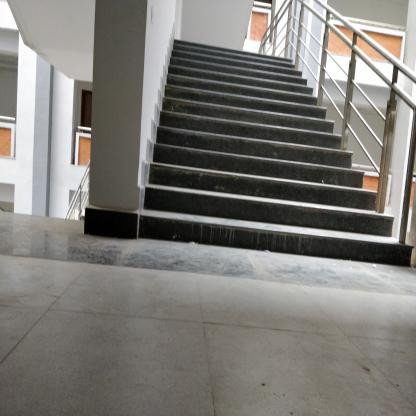stairs: (172, 59, 294, 253)
